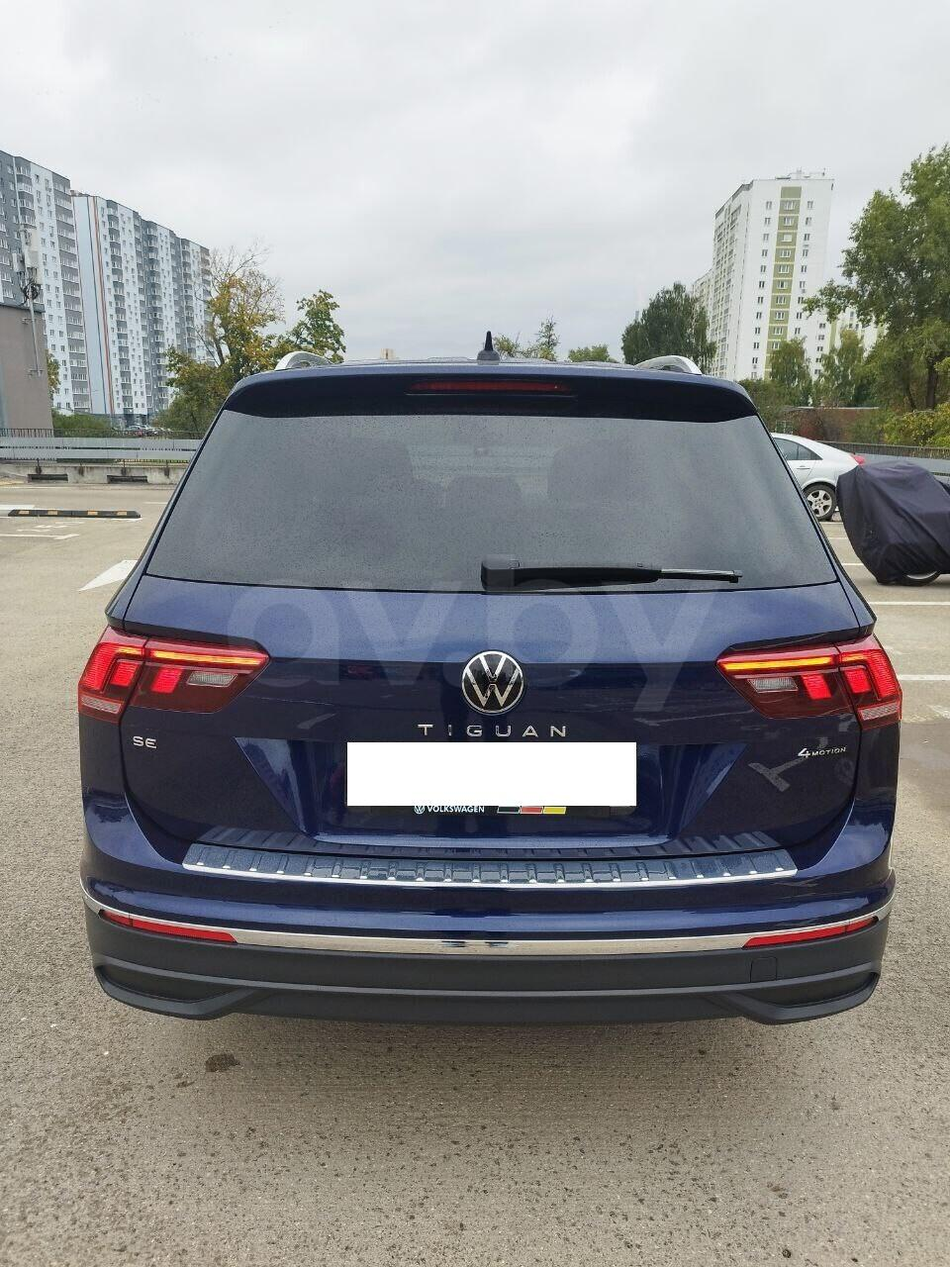Tiguan_2020-2024: (69, 355, 902, 1036)
